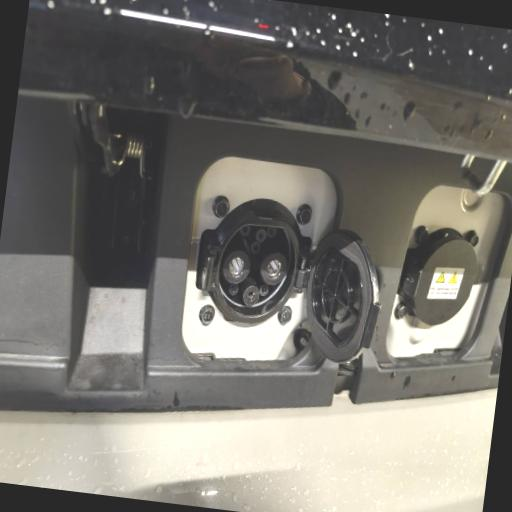DC_charging_port: (206, 212, 304, 331)
DC_hole: (220, 247, 254, 287), (258, 249, 290, 289)
PE: (242, 284, 262, 308)
